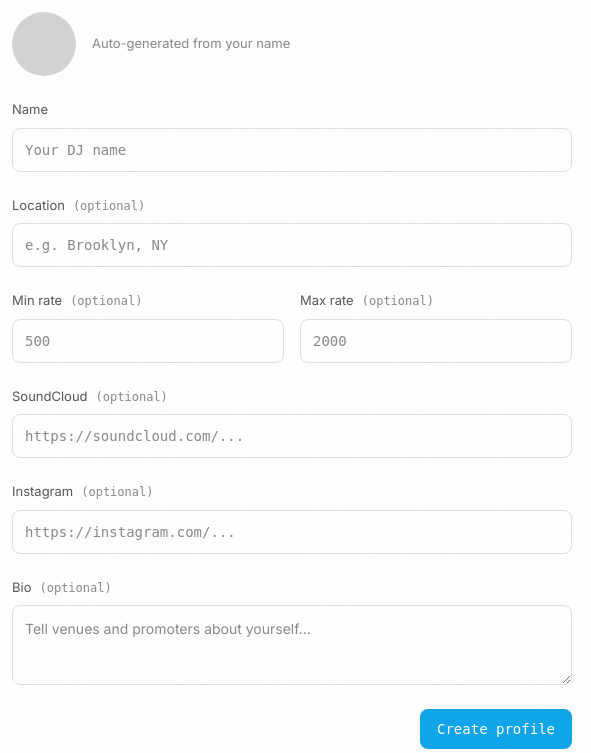
Scenario: ProfileForm › shows error on failure
The width and height of the screenshot is (591, 753).
Type "x" into the field labelled "Name". click: (292, 150)
box: [12, 128, 572, 172]
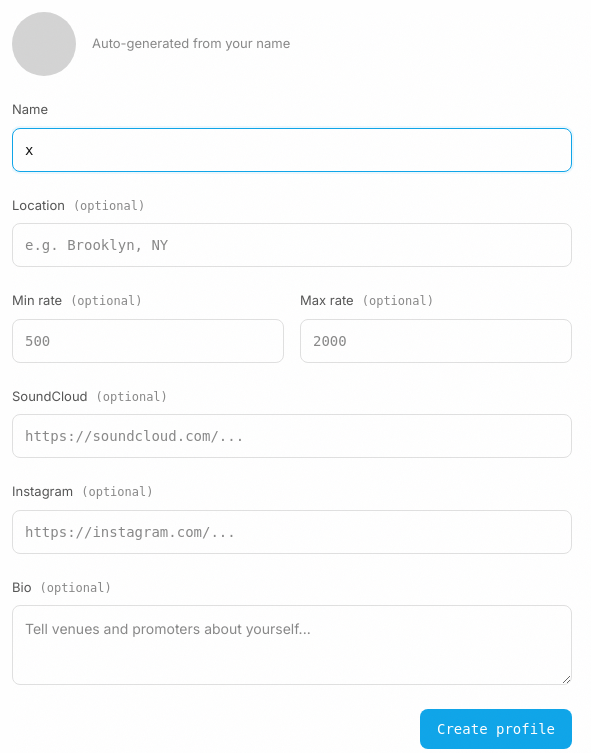
Click the button "Create profile". click: click(496, 729)
box: [420, 709, 572, 749]
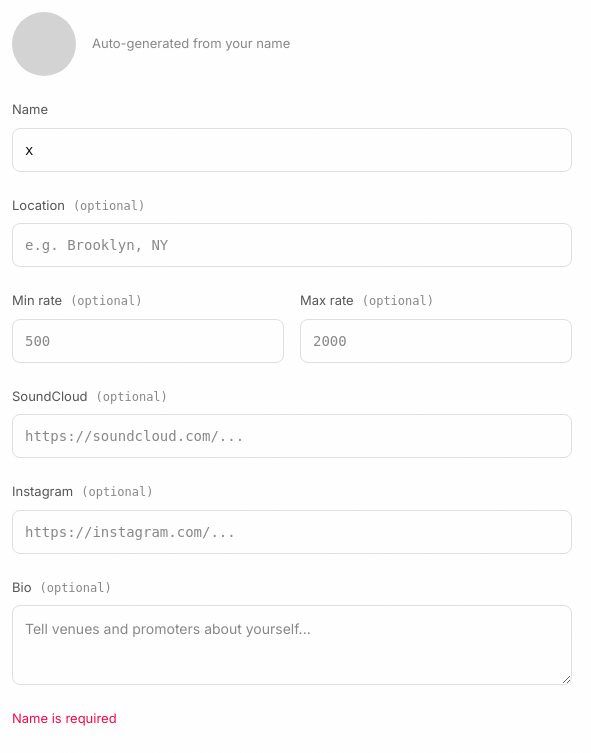
expect the text "Name is required" is shown: met, box [12, 710, 117, 726]
